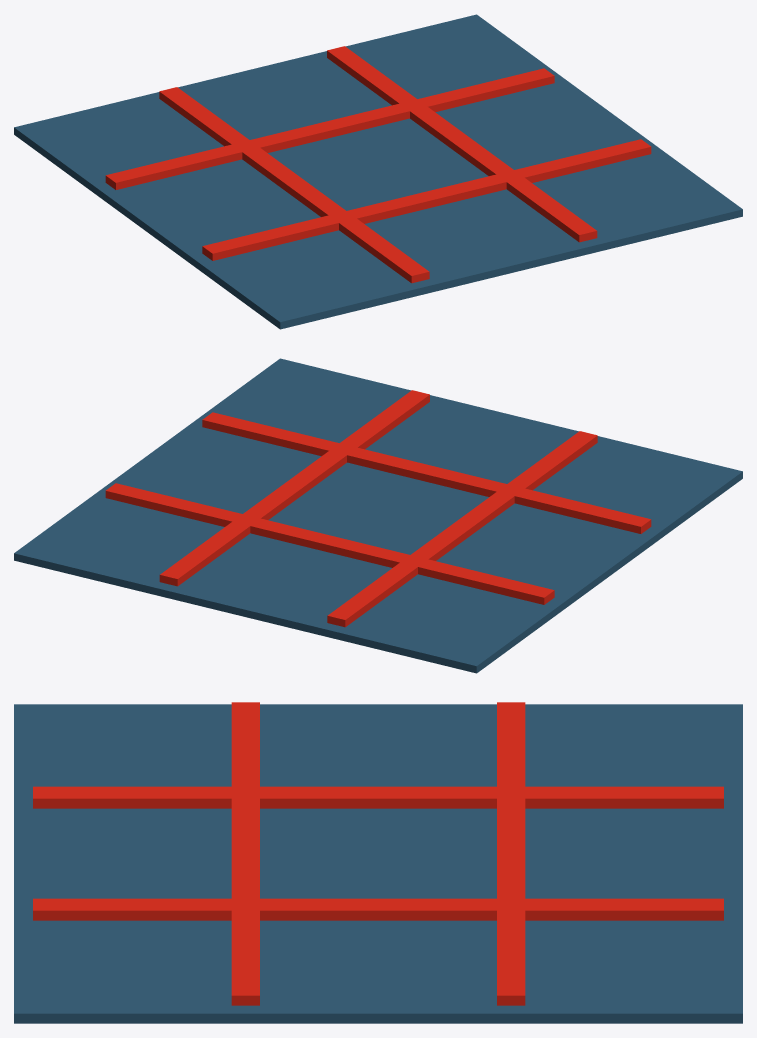
Rendered from TicTacToe_Grid.fbx.
3 renders of one model, top to bottom at view 1: azimuth 30°, elevation 25°; view 2: azimuth 150°, elevation 25°; view 3: azimuth 270°, elevation 25°, orthographic. The views are drawn at different scales.
Visible parts, largest first — view 1: Grid.001; view 2: Grid.001; view 3: Grid.001.
Part boxes in pixels (left/top/right/bottom): Grid.001: left=14, top=14, right=742, bottom=329; Grid.001: left=14, top=358, right=742, bottom=673; Grid.001: left=14, top=702, right=742, bottom=1023.
Size of the model in its own units: 3312 by 100 by 3300.
